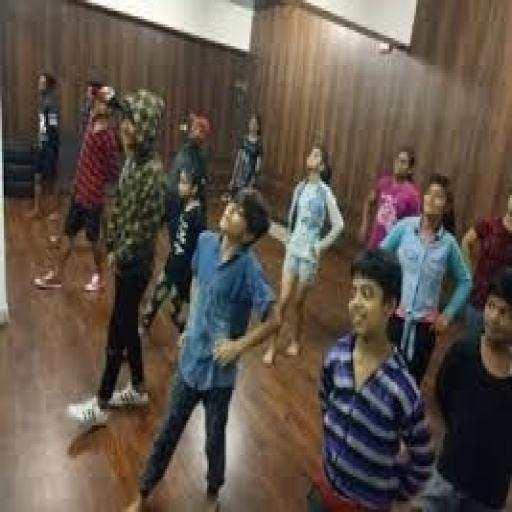dancing: (85, 79, 487, 370), (245, 224, 472, 512), (103, 181, 295, 512)
